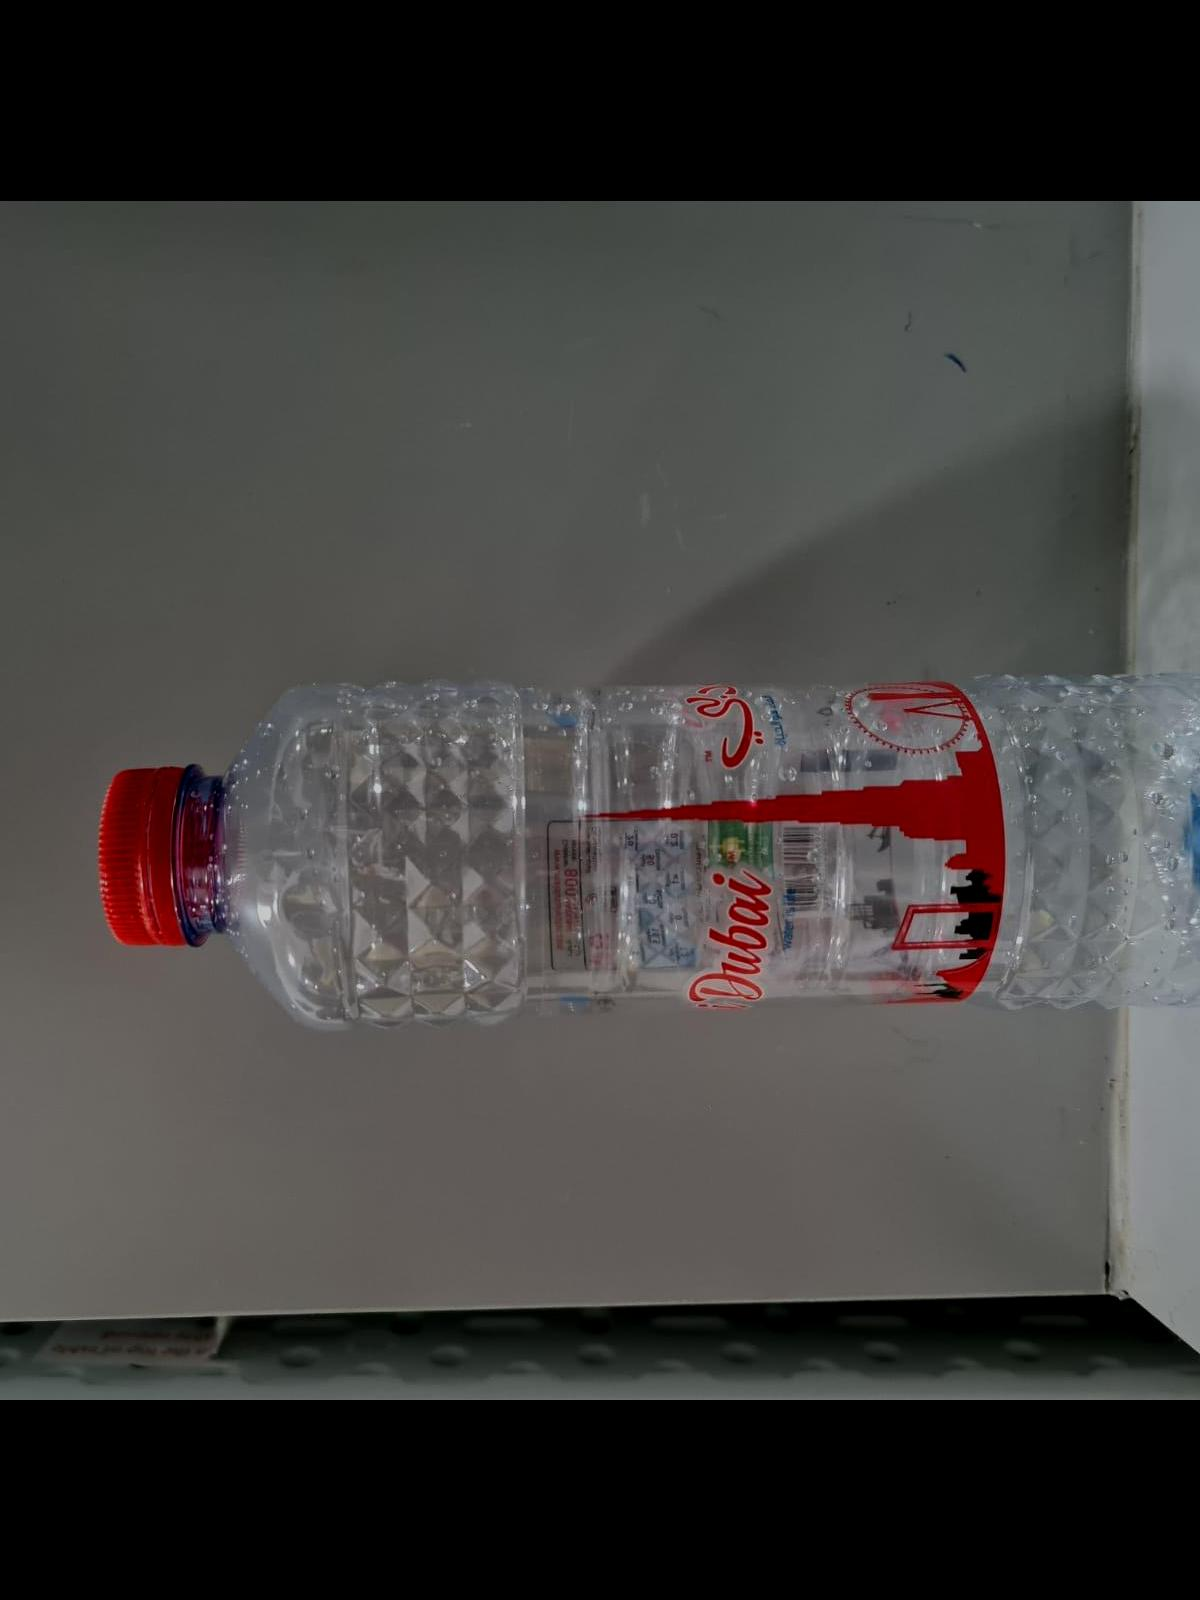bottle: (101, 657, 1200, 1029)
